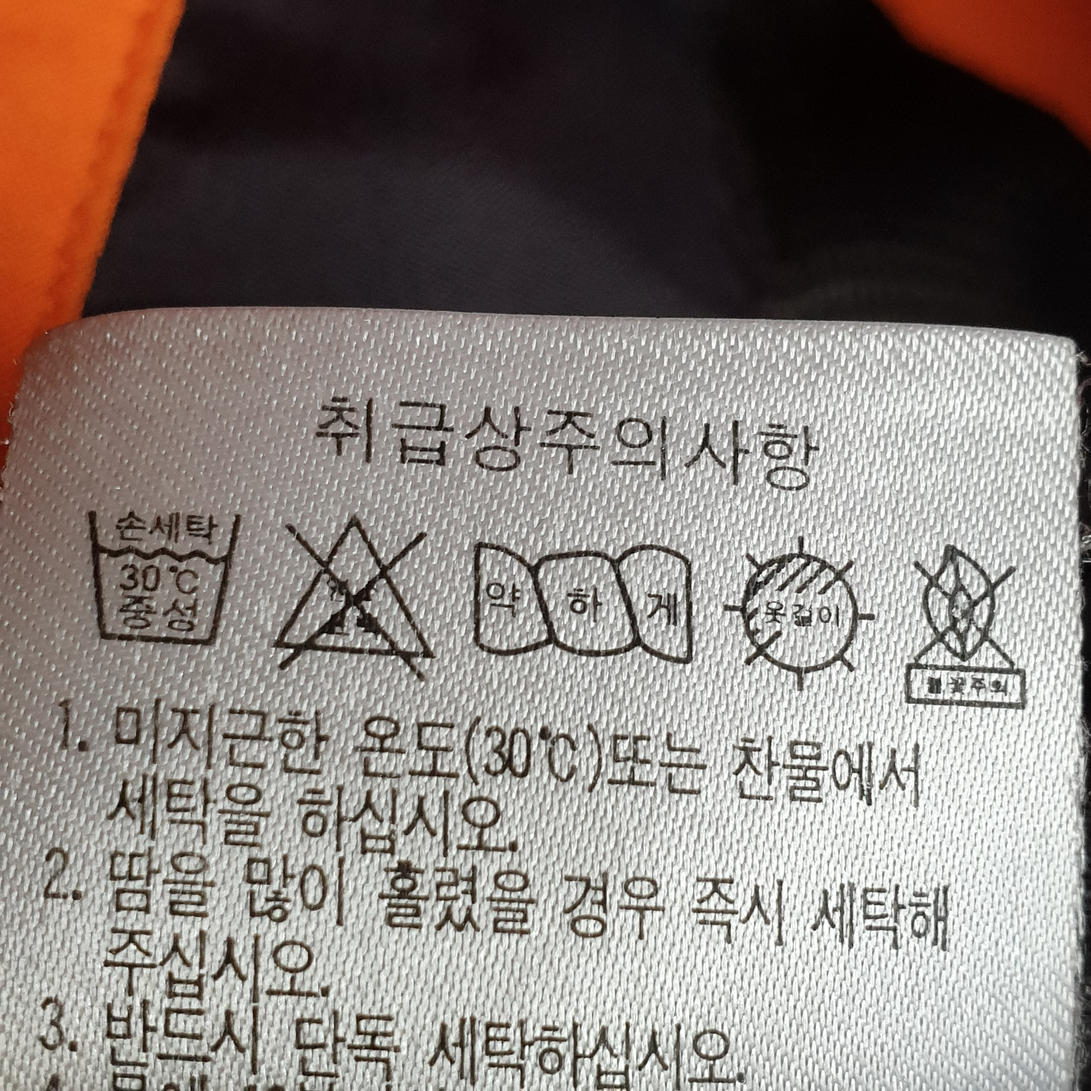KR_gentle_wring: (460, 529, 708, 669)
KR_hand_wash_30_neutral: (76, 495, 252, 655)
KR_hang_dry_in_shade: (720, 531, 879, 693)
KR_no_chlorine_bleach: (265, 510, 448, 669)
